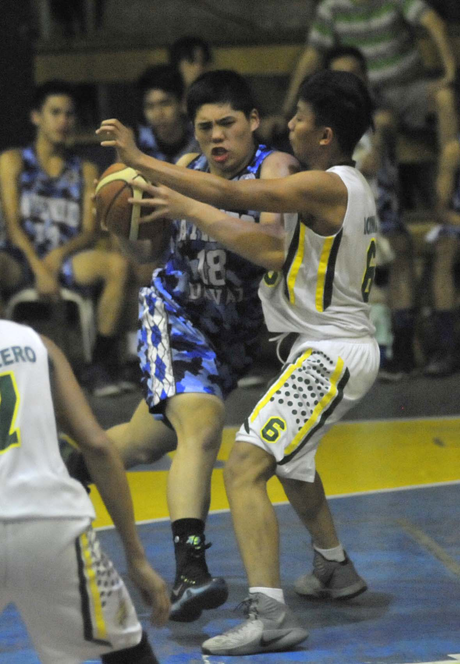ball: (94, 162, 181, 241)
player: (204, 71, 383, 649), (119, 71, 289, 620)
